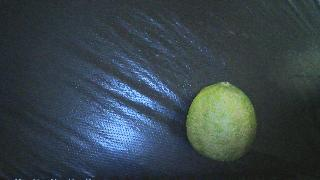DESECHO: (186, 82, 257, 161)
